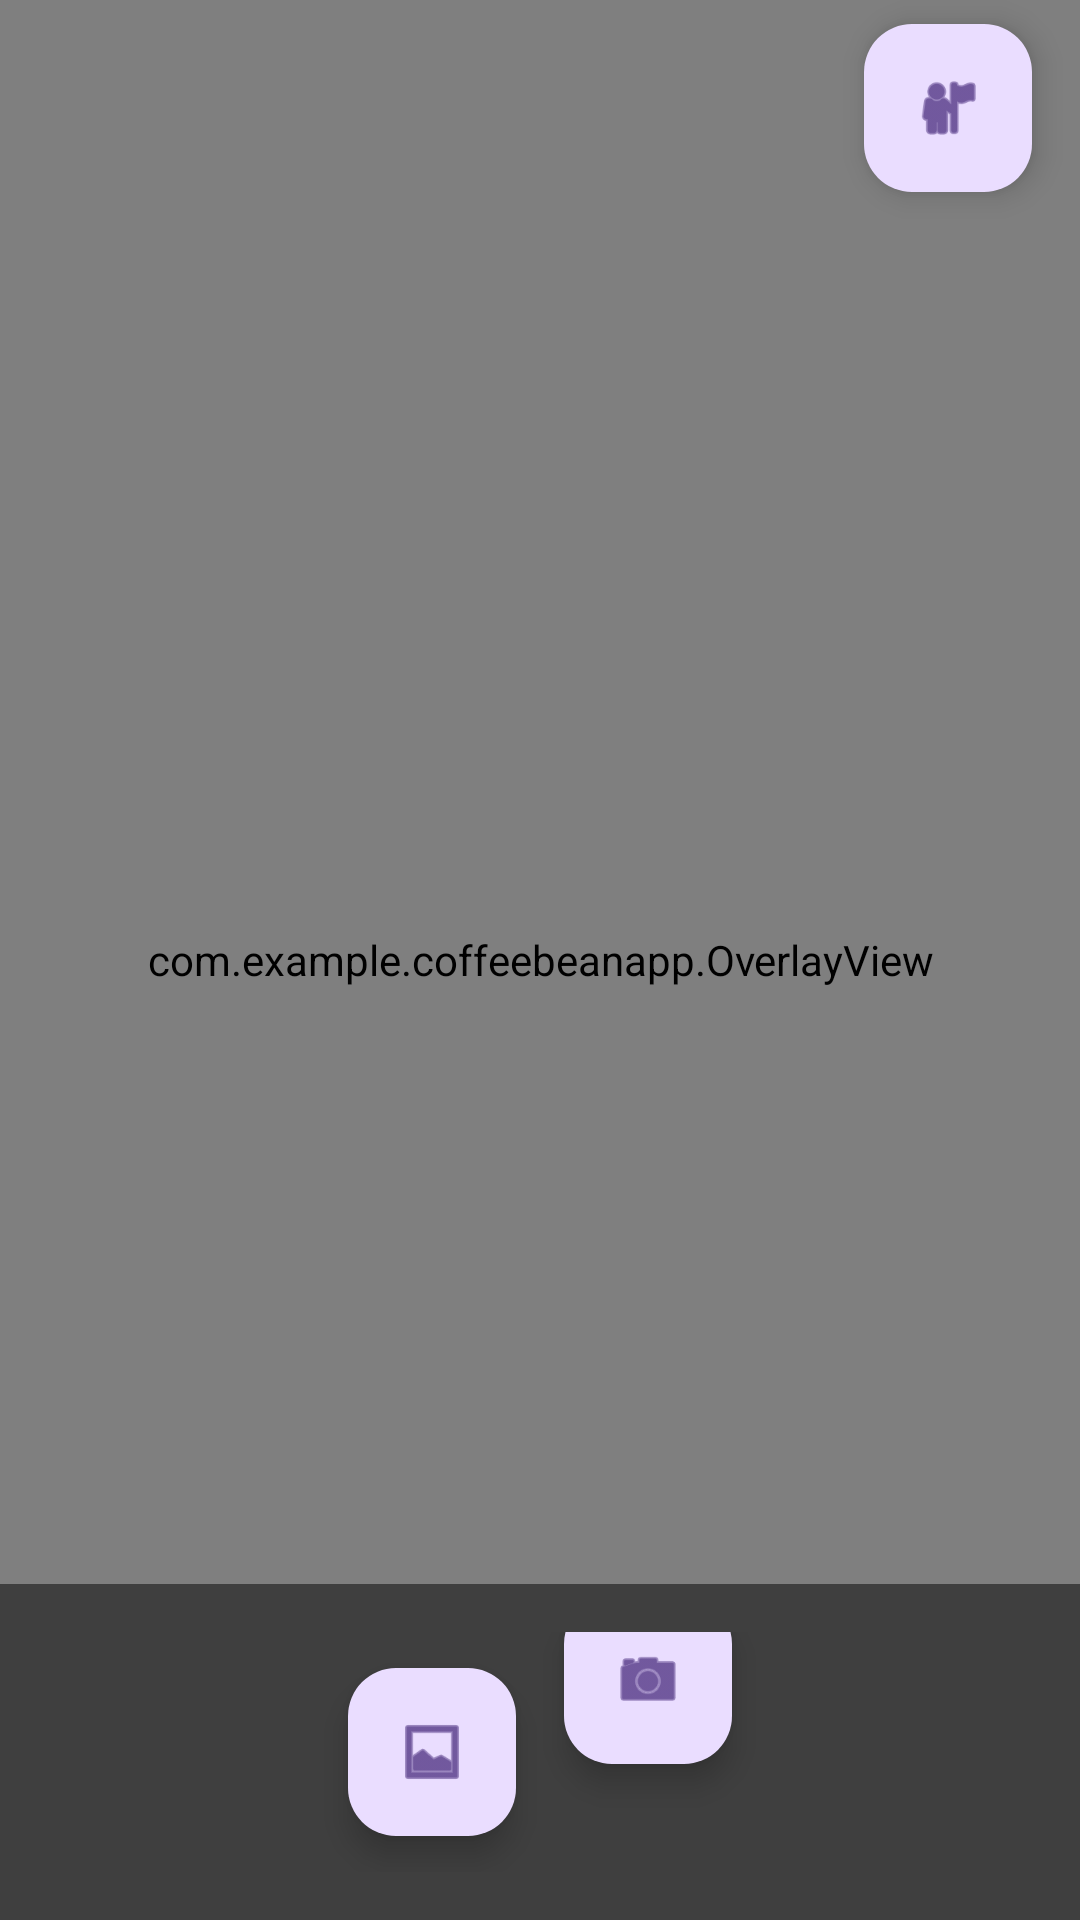

Screen size 1080 x 1920. Icon name, then its center in pixels as point (x, y):
Import Image from Gallery: point (432, 1752)
Take Photo: point (648, 1698)
